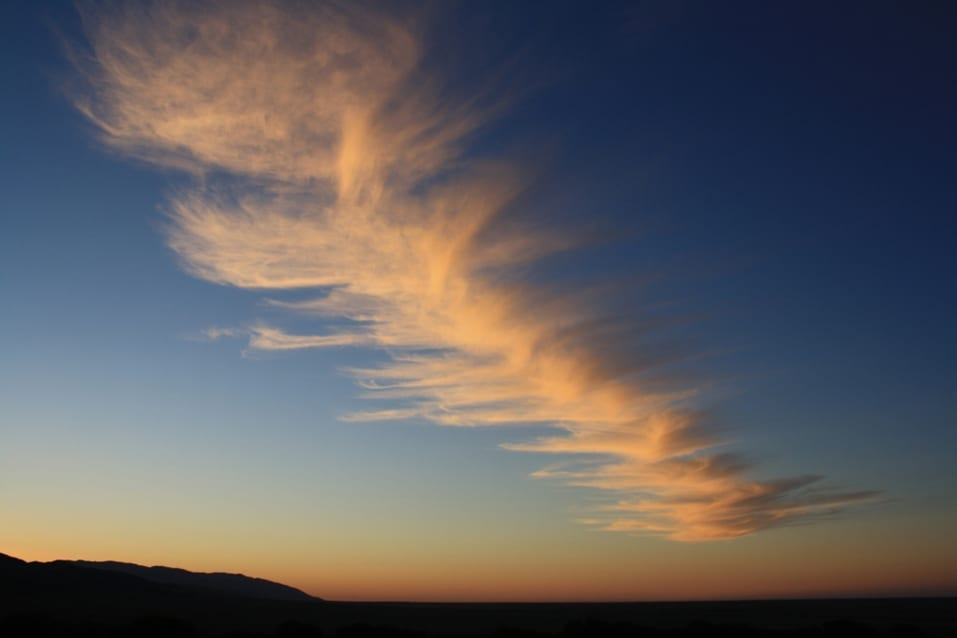Cirrus: (74, 5, 910, 548)
